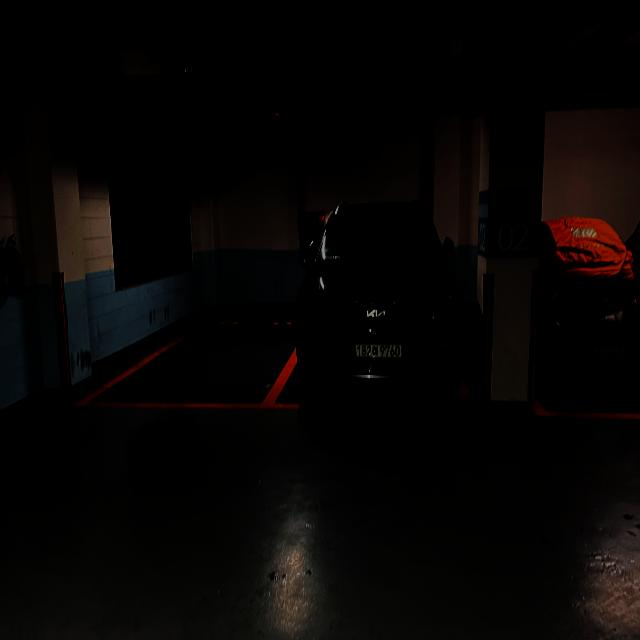empty: (85, 313, 306, 408)
occupied: (295, 203, 464, 400)
